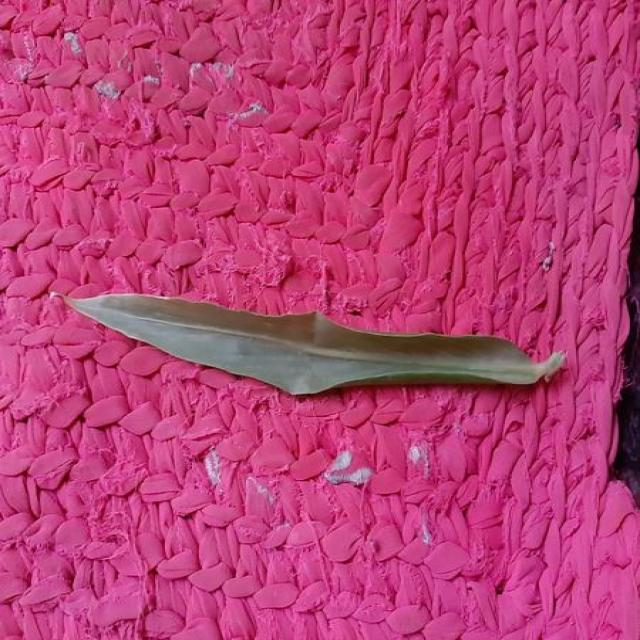ginger: (63, 294, 565, 395)
